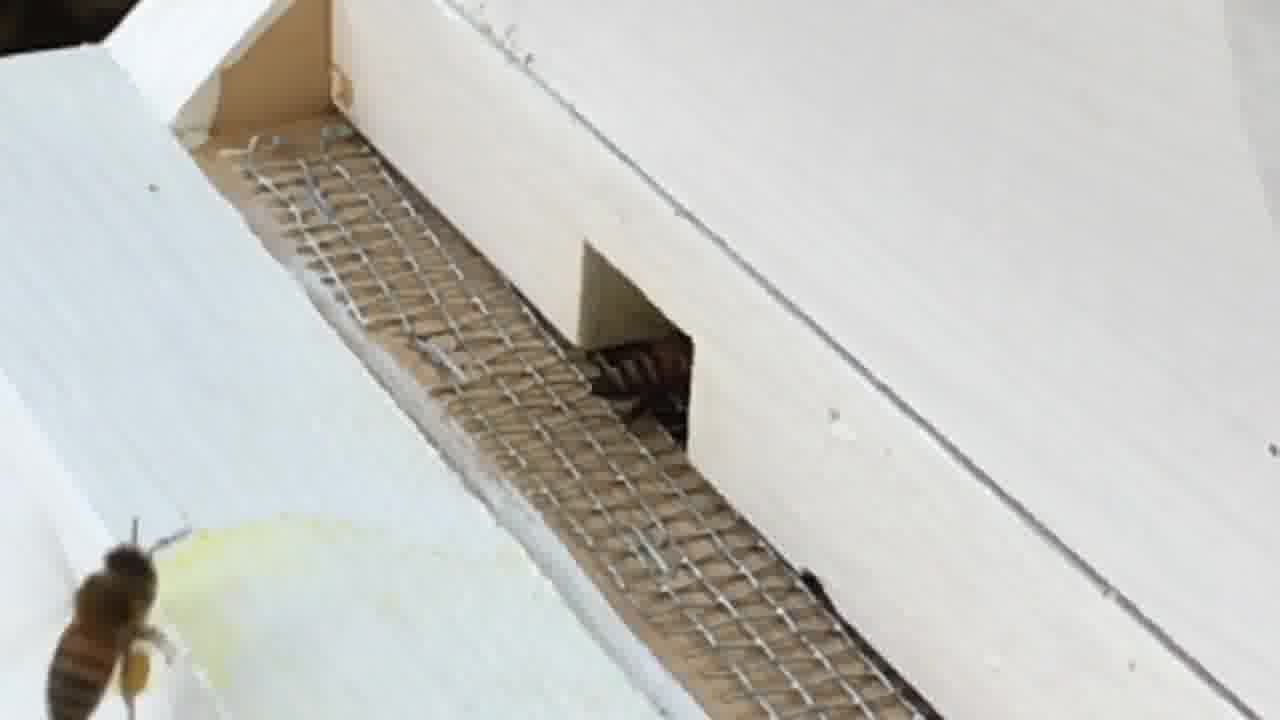pollen: (32, 528, 172, 715)
